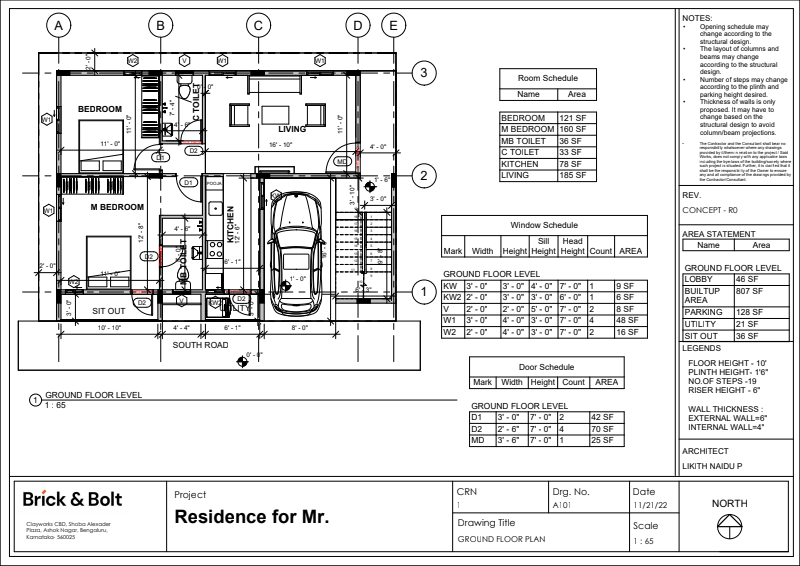door: (325, 139, 359, 175), (174, 174, 204, 204), (132, 142, 162, 171), (130, 291, 154, 318), (228, 291, 252, 317), (179, 118, 203, 143), (161, 244, 185, 269)
